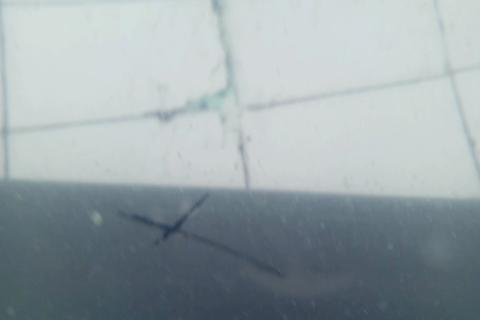keretakan: (116, 194, 288, 281)
